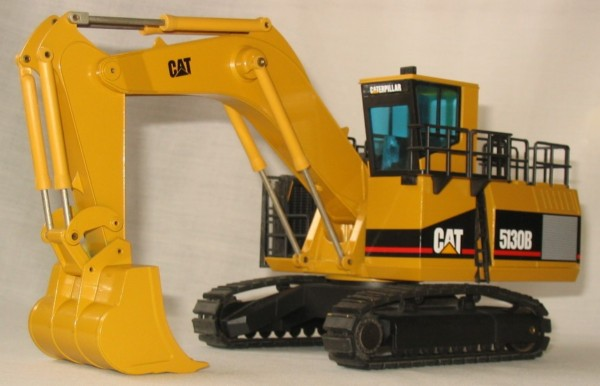backhoe: (21, 11, 591, 376)
